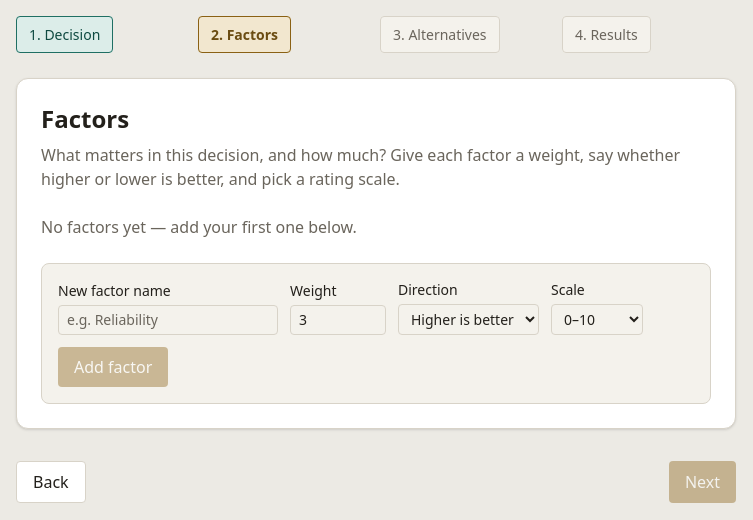
Scenario: FactorsStep — adding a factor › Add is disabled until a name and a positive weight are provided
expect the button "Add factor" is disabled: met, box [58,347,168,387]
Step 1. Type "Range" into the field labelled "New factor name" → (168, 320), box [58,305,278,335]
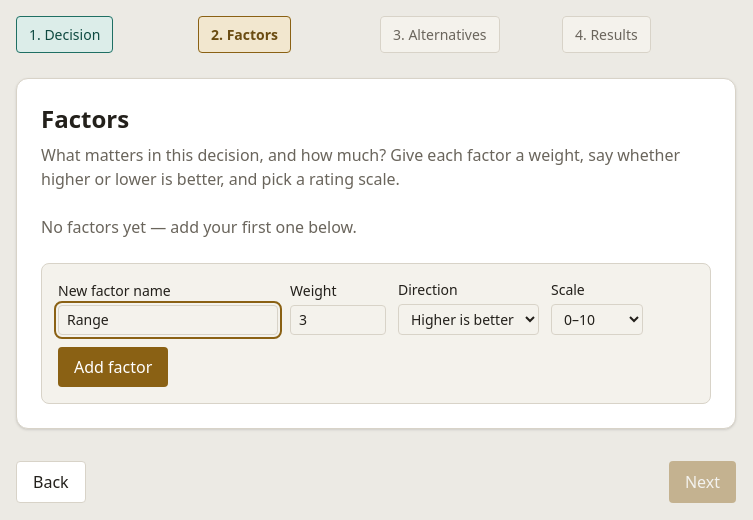
expect the button "Add factor" is enabled: met, box [58,347,168,387]
